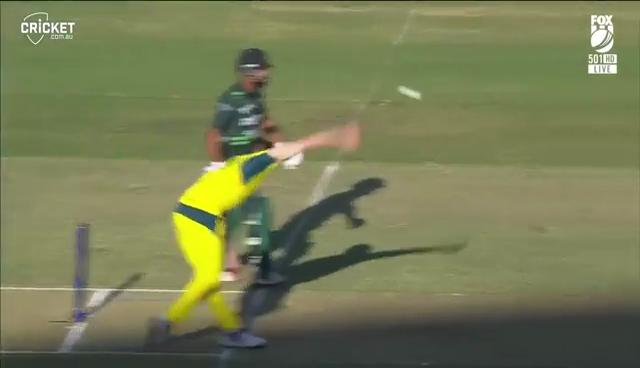ball: (395, 77, 428, 107)
